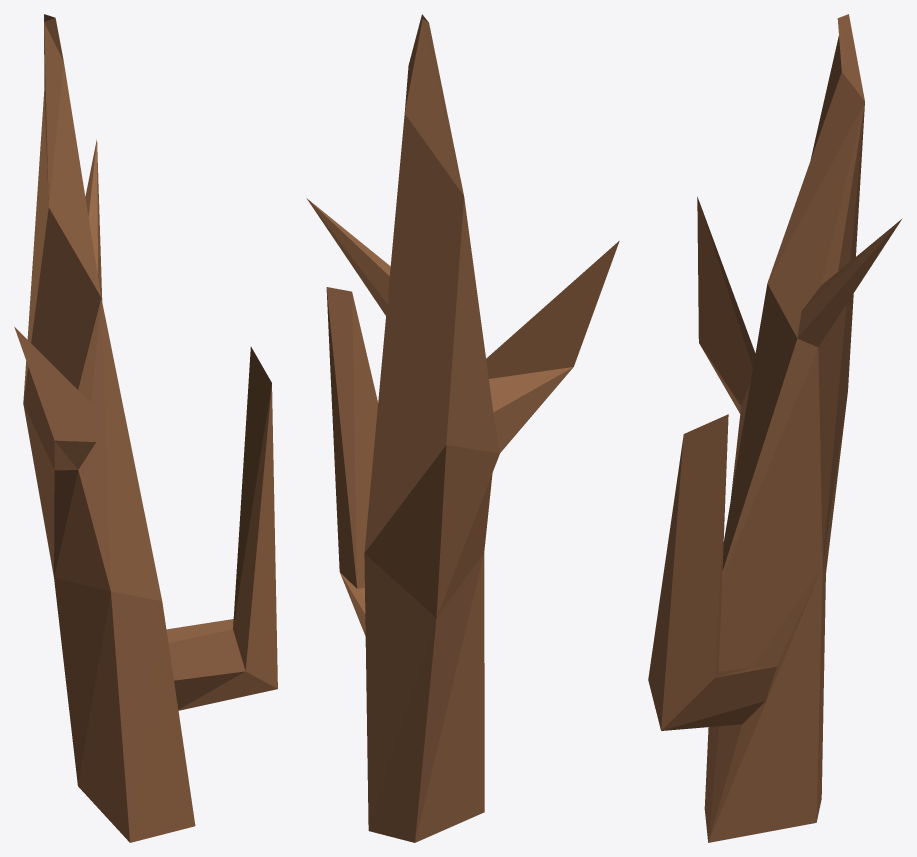
The model's file is tree-summer-trunk-5-006.glb.
3 views of the same model, side by side, from view 1: azimuth 30°, elevation 25°; view 2: azimuth 150°, elevation 25°; view 3: azimuth 270°, elevation 25° (orthographic). The views are drawn at different scales.
Visible parts, largest first — view 1: Trunk 5_112; view 2: Trunk 5_112; view 3: Trunk 5_112.
Part boxes in pixels (x1=…): Trunk 5_112: x1=14, y1=14, x2=277, y2=842; Trunk 5_112: x1=306, y1=14, x2=619, y2=842; Trunk 5_112: x1=648, y1=14, x2=902, y2=842.
Size of the model in its own units: 0.4487 by 1.33 by 0.3883.
